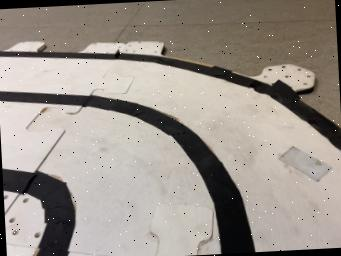street: (0, 49, 341, 256), (0, 49, 341, 256)
